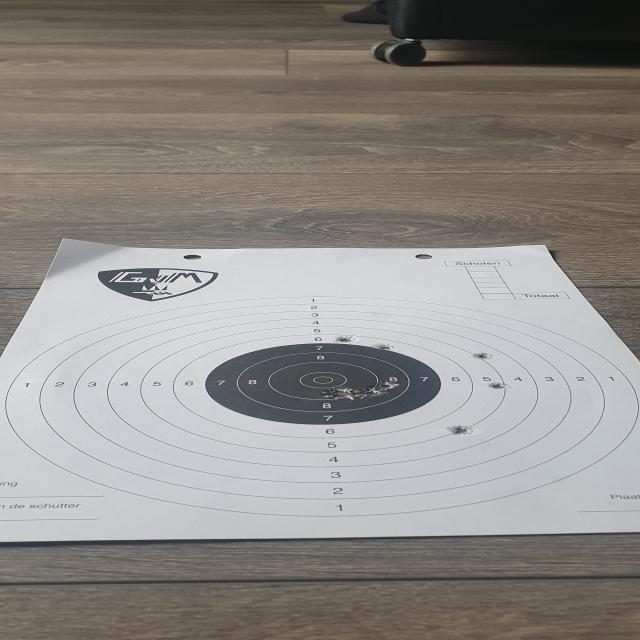5: (470, 350, 498, 361), (488, 380, 513, 390)
6: (446, 424, 478, 438), (333, 335, 358, 344)
7: (374, 342, 395, 352)
8: (377, 382, 397, 390)
9: (363, 390, 383, 398), (329, 394, 354, 400), (328, 387, 352, 393)
Target: (2, 296, 640, 518)
black_contour: (206, 343, 442, 425)
